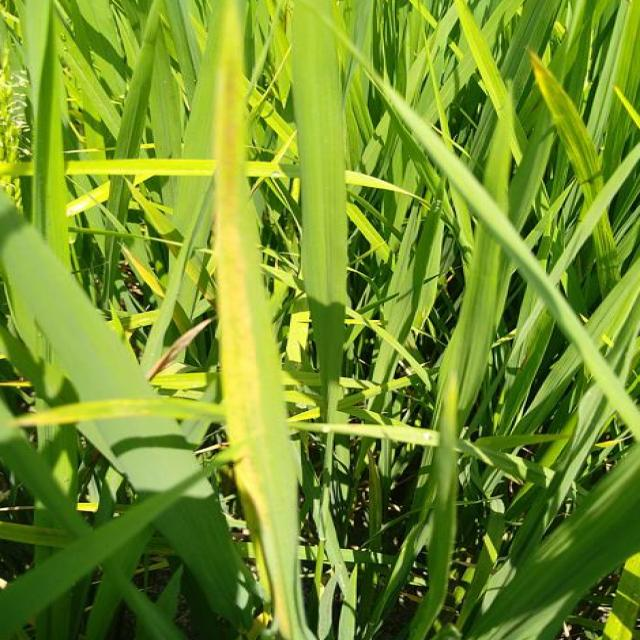Leaf Streak: (208, 0, 306, 640), (530, 51, 596, 176)
